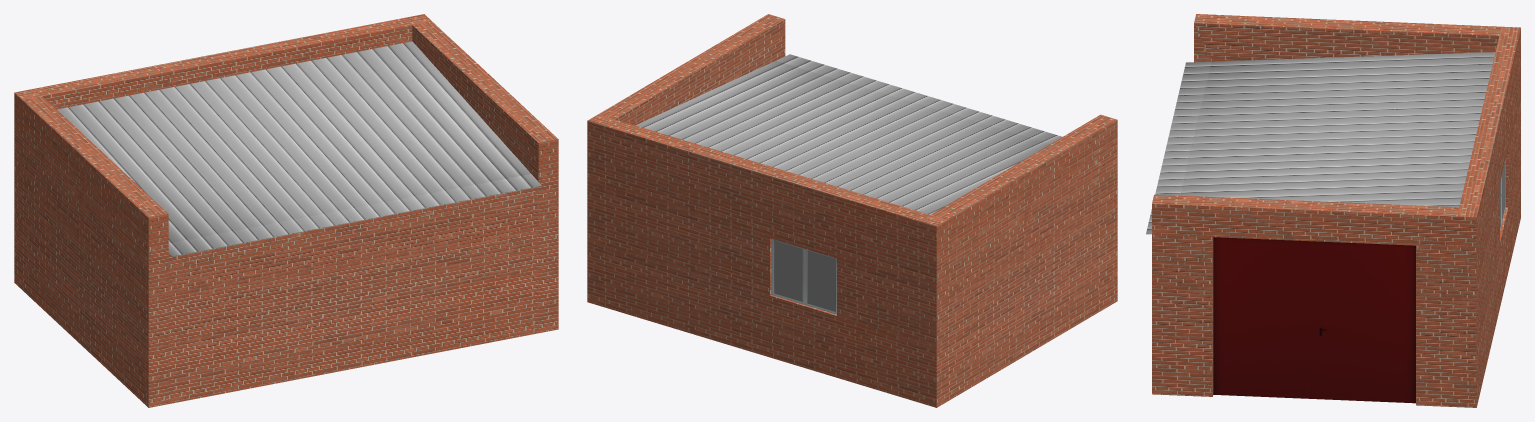
The picture shows the model from 3 angles, left to right: view 1: azimuth 30°, elevation 25°; view 2: azimuth 150°, elevation 25°; view 3: azimuth 270°, elevation 25°; orthographic projection. The views are drawn at different scales.
Parts seen in each view (by area): view 1: 01040-50@500005712; view 2: 01040-50@500005712; view 3: 01040-50@500005712.
Part boxes in pixels (x1,y1,x2,y2): 01040-50@500005712: (14,14,558,407); 01040-50@500005712: (587,14,1117,407); 01040-50@500005712: (1146,14,1520,407).
Size of the model in its own units: 6.6 by 2.88 by 5.14.
1 material, 1 textured.
